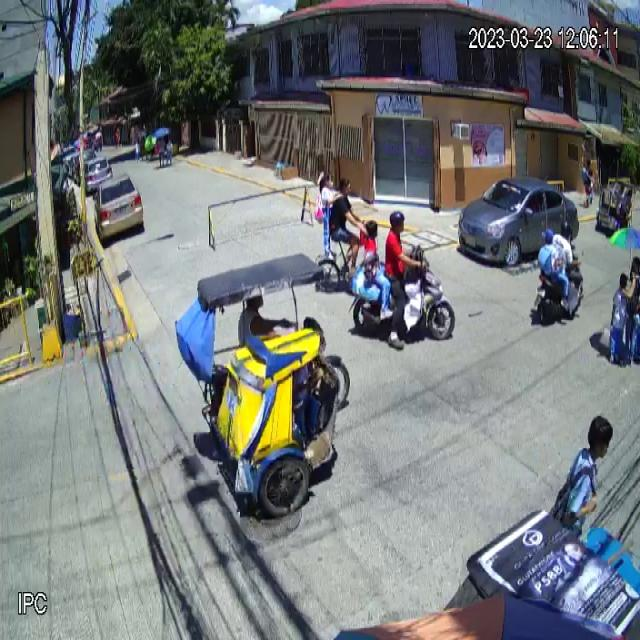Car: (457, 176, 580, 266), (92, 171, 143, 242)
Motorcycle: (348, 244, 456, 341)
Tricycle: (174, 252, 351, 518)
